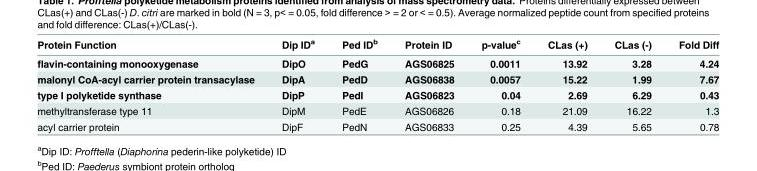table: (36, 36, 718, 132)
table column: (36, 36, 267, 132), (390, 36, 467, 132), (533, 36, 600, 132), (467, 36, 533, 132), (600, 36, 664, 132), (327, 36, 390, 132), (267, 36, 327, 132), (664, 36, 718, 132)
table column header: (36, 36, 718, 53)
table row: (36, 36, 718, 53), (36, 53, 718, 70), (36, 70, 718, 86), (36, 86, 718, 102), (36, 102, 718, 118), (36, 118, 718, 132)
